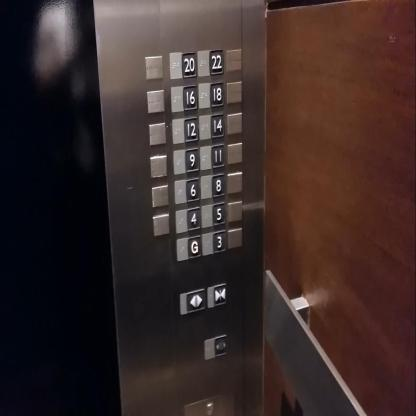11: (210, 142, 225, 168)
12: (183, 115, 199, 142)
14: (209, 111, 226, 138)
16: (182, 83, 198, 111)
18: (209, 80, 225, 107)
20: (181, 49, 198, 78)
22: (208, 47, 224, 74)
3: (212, 227, 226, 253)
4: (186, 204, 202, 232)
5: (212, 200, 226, 226)
6: (185, 175, 201, 202)
8: (210, 171, 226, 196)
9: (184, 145, 200, 172)
G: (187, 232, 203, 258)
close: (212, 280, 228, 306)
open: (185, 284, 206, 314)
unknown: (213, 332, 227, 358)
